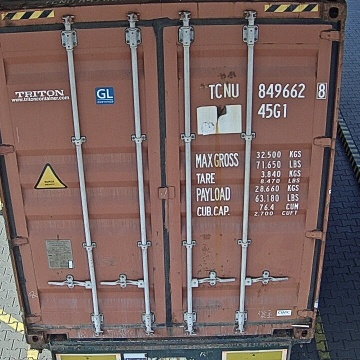serial_id: (208, 82, 327, 98)
